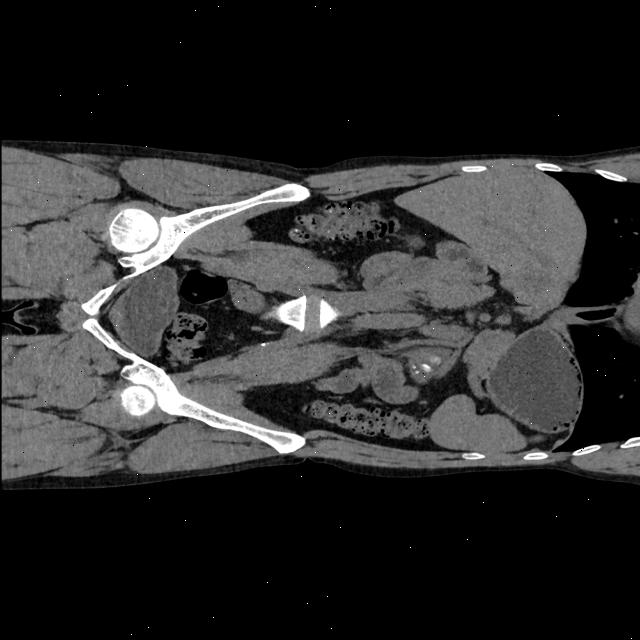kidneystone: (418, 364, 432, 372)
